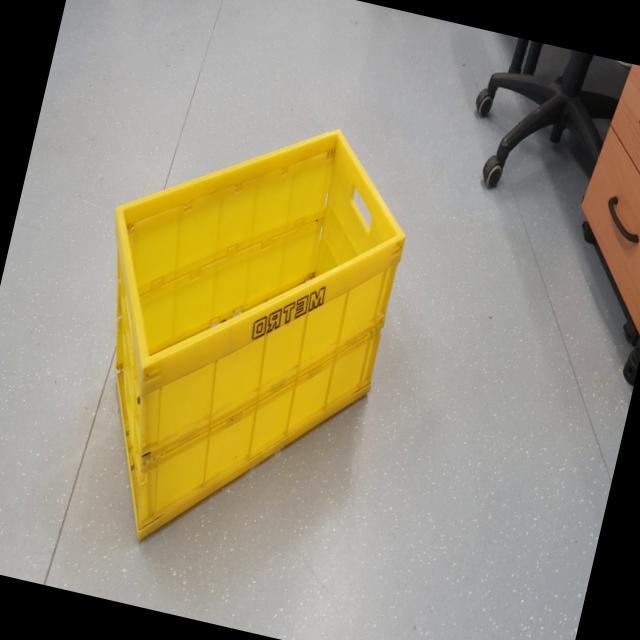box: (38, 69, 440, 592)
